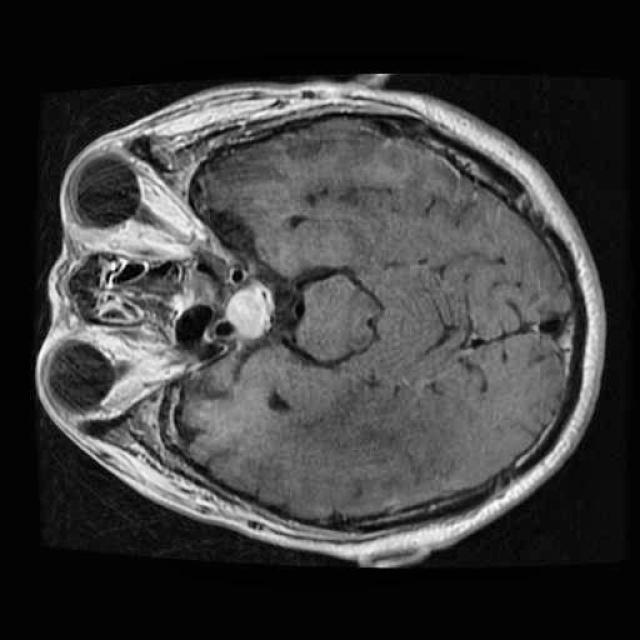Tumor: (211, 276, 286, 356)
